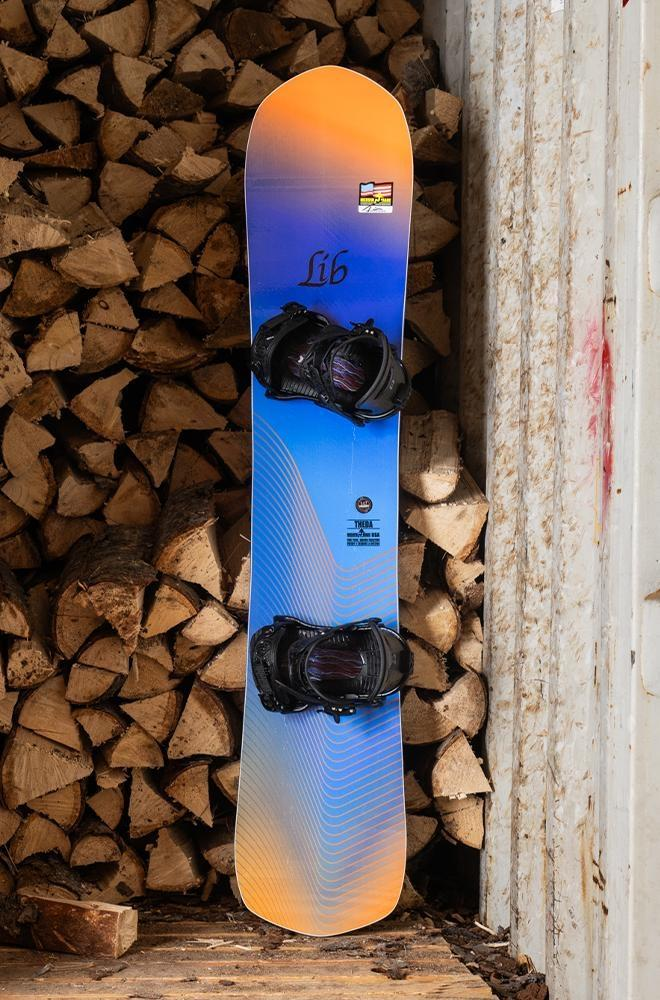Snowboard: (228, 62, 422, 938)
